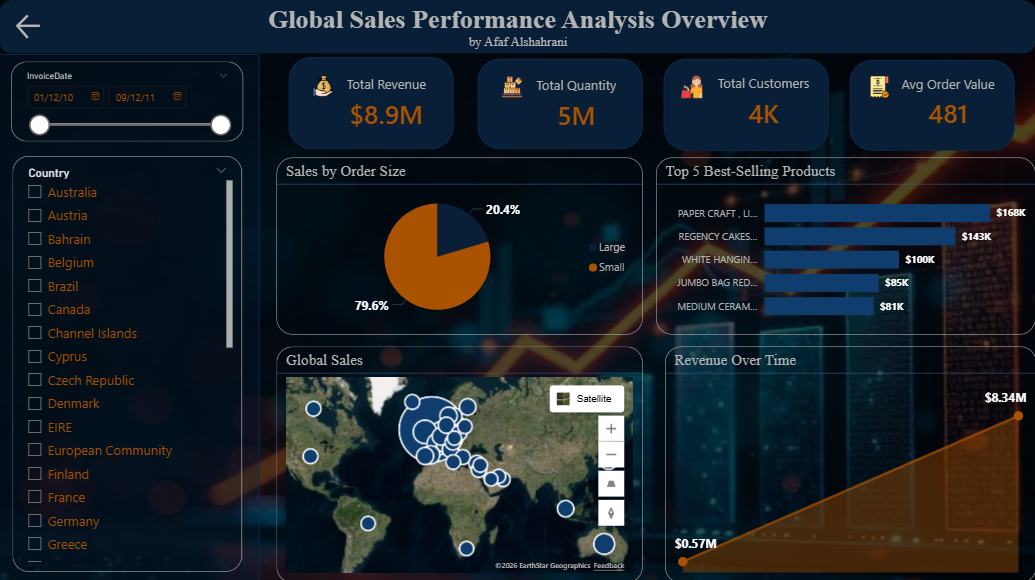

This screenshot's page, from the dashboard's own definition file:
{"tool":"powerbi","page":{"name":"Dashboard","canvas":[1280,720],"ordinal":1},"visuals":[{"type":"shape","box":[0,0,1280.5,66.3],"z":0},{"type":"textbox","box":[16,0,1248,66],"z":1000},{"type":"lineChart","title":"Revenue Over Time","fields":{"Category":["PowerBI_Task_data.InvoiceDate.Variation.Date Hierarchy.Year","PowerBI_Task_data.InvoiceDate.Variation.Date Hierarchy.Quarter","PowerBI_Task_data.InvoiceDate.Variation.Date Hierarchy.Month"],"Y":["Sum(PowerBI_Task_data.Total Price)"]},"box":[821.7,428.3,458.3,291.7],"z":2000},{"type":"shape","box":[591.3,72,204,112],"z":3000},{"type":"shape","box":[357.3,70,204,114],"z":4000},{"type":"shape","box":[821.3,72,204,114],"z":5000},{"type":"shape","box":[1049.3,74,204,112],"z":6000},{"type":"cardVisual","fields":{"Data":["Sum(PowerBI_Task_data.Quantity)"]},"box":[589.9,69.5,205,115],"z":7000},{"type":"cardVisual","fields":{"Data":["Sum(PowerBI_Task_data.Total Price)"]},"box":[357.3,70,203.3,113.3],"z":8000},{"type":"cardVisual","fields":{"Data":["_Measures.Customer Base"]},"box":[811.6,67.9,223.3,115],"z":9000},{"type":"cardVisual","fields":{"Data":["_Measures.Avg Order Value"]},"box":[1040.3,69.6,220.3,112.6],"z":10000},{"type":"azureMap","title":"Global Sales","fields":{"Size":["Sum(PowerBI_Task_data.Total Price)"],"Category":["PowerBI_Task_data.Country"]},"box":[343.3,428.3,451.7,291.7],"z":11000},{"type":"pieChart","title":"Sales by Order Size","fields":{"Series":["PowerBI_Task_data.Order Category"],"Y":["_Measures.Total Sales"]},"box":[342.9,193.8,452.2,218.7],"z":12000},{"type":"clusteredBarChart","title":"Top 5 Best-Selling Products","fields":{"Y":["Sum(PowerBI_Task_data.Total Price)"],"Category":["PowerBI_Task_data.Description"]},"box":[811.7,193.8,468.8,218.7],"z":13000},{"type":"shape","box":[0,66.7,321.7,653.3],"z":14000},{"type":"slicer","title":"InvoiceDate","fields":{"Values":["PowerBI_Task_data.InvoiceDate"]},"box":[15,76.7,286.7,98.3],"z":15000},{"type":"slicer","fields":{"Values":["PowerBI_Task_data.Country"]},"box":[16.7,193.3,283.3,513.3],"z":16000},{"type":"actionButton","box":[16.6,13.3,99.4,39.8],"z":17000}]}

Visuals, with their boxes in screenshot pixels (x1, y1, x2, y2), scaled from the page's 1280x720 canvas onto the 1035x580 screenshot:
shape: rect(0, 0, 1034, 53)
textbox: rect(13, 0, 1022, 53)
"Revenue Over Time" lineChart: rect(664, 345, 1034, 579)
shape: rect(478, 58, 643, 148)
shape: rect(289, 56, 454, 148)
shape: rect(664, 58, 829, 150)
shape: rect(848, 60, 1013, 150)
cardVisual - Sum(PowerBI_Task_data.Quantity): rect(477, 56, 643, 149)
cardVisual - Sum(PowerBI_Task_data.Total Price): rect(289, 56, 453, 148)
cardVisual - _Measures.Customer Base: rect(656, 55, 837, 147)
cardVisual - _Measures.Avg Order Value: rect(841, 56, 1019, 147)
"Global Sales" azureMap: rect(278, 345, 643, 579)
"Sales by Order Size" pieChart: rect(277, 156, 643, 332)
"Top 5 Best-Selling Products" clusteredBarChart: rect(656, 156, 1034, 332)
shape: rect(0, 54, 260, 579)
"InvoiceDate" slicer: rect(12, 62, 244, 141)
slicer - PowerBI_Task_data.Country: rect(14, 156, 243, 569)
actionButton: rect(13, 11, 94, 43)
